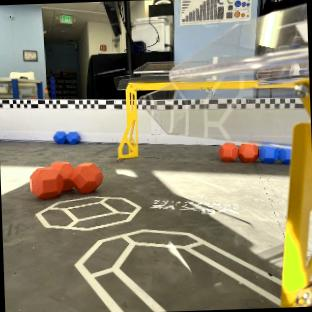Goal: (117, 3, 309, 159), (281, 77, 312, 307)
V5_BLUE: (259, 145, 279, 163), (54, 131, 80, 143), (279, 148, 291, 164)
V5_RED: (29, 162, 102, 199), (219, 143, 259, 162)
